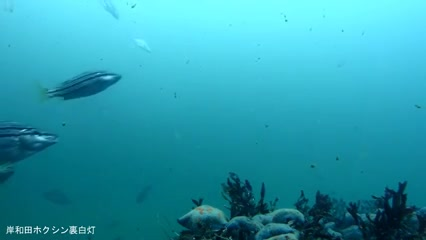bera: (35, 68, 126, 105)
